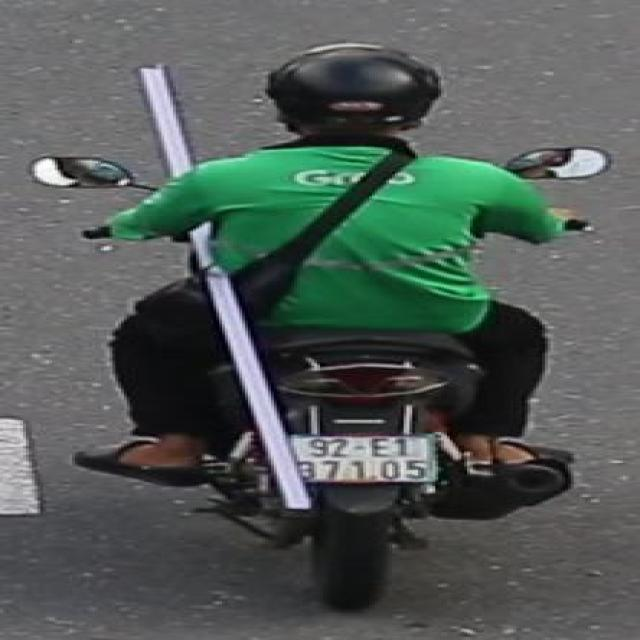LP: (287, 431, 442, 488)
helmet: (258, 36, 445, 154)
